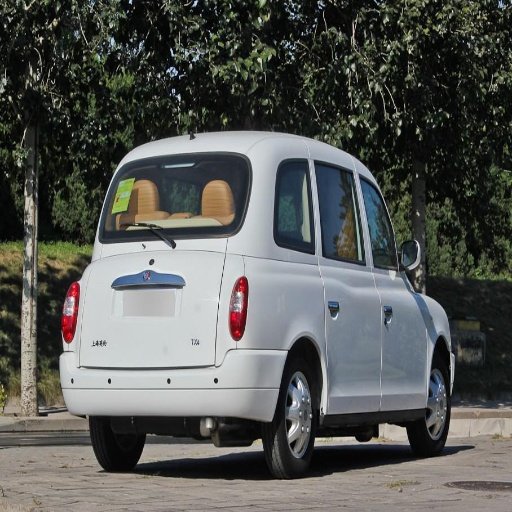back_bumper: (60, 337, 284, 423)
back_right_door: (273, 153, 379, 411)
trunk: (70, 232, 247, 364), (265, 278, 312, 353)
